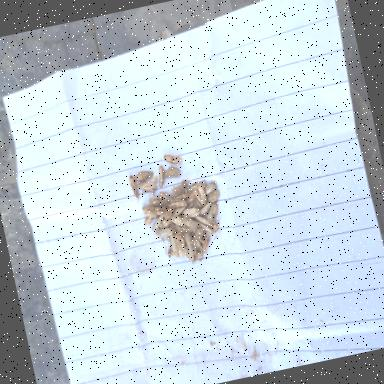pbw: (168, 176, 192, 197), (126, 173, 140, 204), (182, 212, 202, 232), (162, 150, 184, 168), (198, 230, 214, 254), (156, 213, 178, 230), (147, 193, 170, 209), (192, 184, 208, 207), (174, 232, 188, 258), (183, 230, 196, 258), (202, 200, 220, 220), (161, 163, 182, 180), (136, 178, 158, 194), (163, 196, 187, 210), (133, 167, 155, 182), (148, 214, 166, 231), (180, 205, 201, 219), (202, 178, 219, 195), (196, 200, 214, 216), (206, 212, 220, 232), (154, 225, 174, 239), (187, 179, 207, 193), (197, 219, 213, 236), (150, 204, 168, 219), (168, 234, 180, 256), (154, 164, 166, 186), (194, 212, 210, 228), (184, 244, 196, 264), (140, 208, 158, 221), (170, 245, 188, 258), (141, 202, 160, 214), (158, 188, 174, 202), (176, 222, 192, 236), (162, 204, 176, 220), (205, 188, 221, 202), (170, 213, 184, 228), (173, 190, 192, 201), (184, 190, 198, 204), (170, 204, 186, 216), (142, 213, 156, 226), (154, 204, 170, 214), (170, 222, 178, 236)
